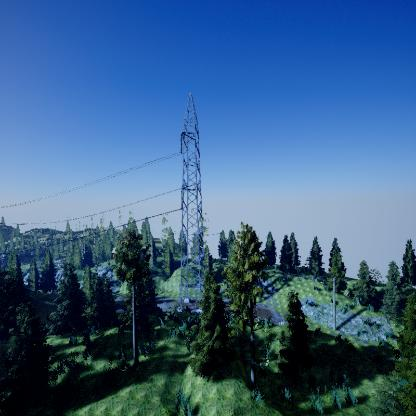tower: (173, 91, 210, 318)
